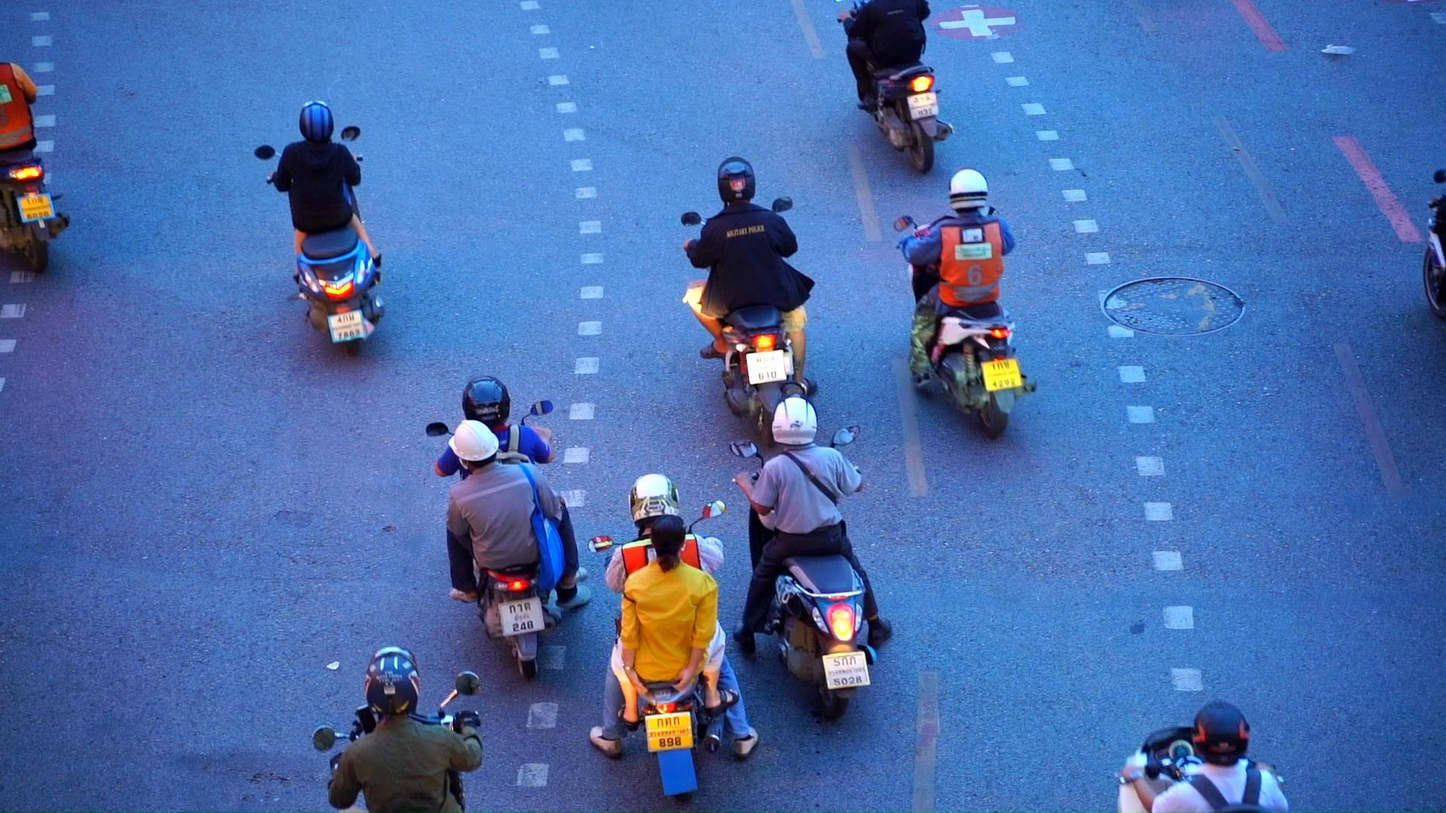driver: (588, 473, 758, 804), (730, 391, 892, 722), (426, 375, 593, 679), (681, 156, 818, 448), (895, 167, 1037, 439), (254, 99, 385, 357), (312, 646, 484, 813), (837, 0, 955, 176), (1119, 701, 1288, 813), (0, 62, 70, 274)
helmet: (364, 647, 421, 722), (1191, 701, 1250, 758), (629, 473, 680, 528), (448, 420, 500, 470), (772, 391, 818, 447), (462, 375, 511, 427), (718, 156, 756, 208), (949, 168, 989, 213), (299, 99, 334, 145)
no-helmet: (650, 515, 686, 573)
